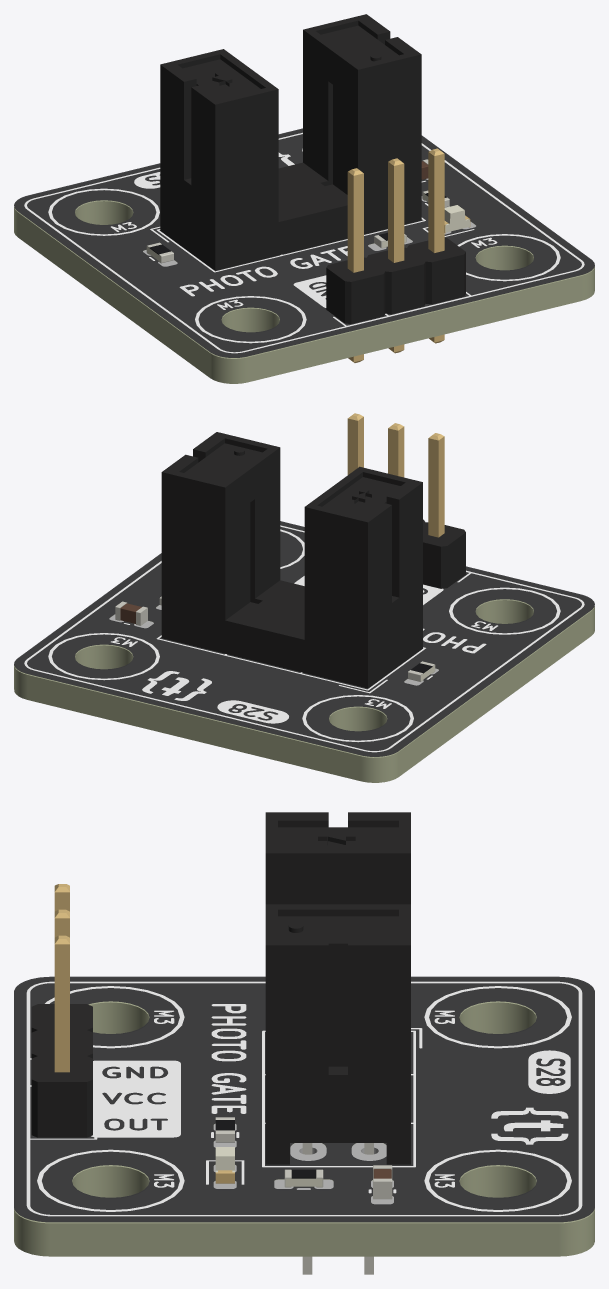
3 renders of one model, top to bottom at view 1: azimuth 30°, elevation 25°; view 2: azimuth 150°, elevation 25°; view 3: azimuth 270°, elevation 25°, orthographic. The views are drawn at different scales.
Parts seen in each view (by area): view 1: U1, =>[0:1:1:10], =>[0:1:1:12], J1, =>[0:1:1:8], D1; view 2: U1, =>[0:1:1:10], =>[0:1:1:12], =>[0:1:1:8], J1, C1; view 3: =>[0:1:1:10], U1, =>[0:1:1:12], =>[0:1:1:8], J1, =>[0:1:1:7], D1, R3, C1.
Part boxes in pixels (x1,y1,x2,y2): U1: (160,14,421,270); =>[0:1:1:10]: (14,128,594,357); =>[0:1:1:12]: (14,200,594,383); J1: (326,148,465,362); =>[0:1:1:8]: (24,132,584,353); D1: (444,205,470,233); U1: (161,432,422,688); =>[0:1:1:10]: (14,521,594,756); =>[0:1:1:12]: (14,599,594,782); =>[0:1:1:8]: (24,525,584,752); J1: (347,413,465,588); C1: (115,601,147,625); =>[0:1:1:10]: (14,976,594,1222); U1: (265,812,410,1274); =>[0:1:1:12]: (14,1001,594,1256); =>[0:1:1:8]: (26,981,582,1216); J1: (31,884,92,1137); =>[0:1:1:7]: (213,1124,393,1204); D1: (215,1147,234,1183); R3: (284,1169,323,1187); C1: (373,1165,392,1199).
Bounding box in the file's own units: 0.024 × 0.0156 × 0.024.
